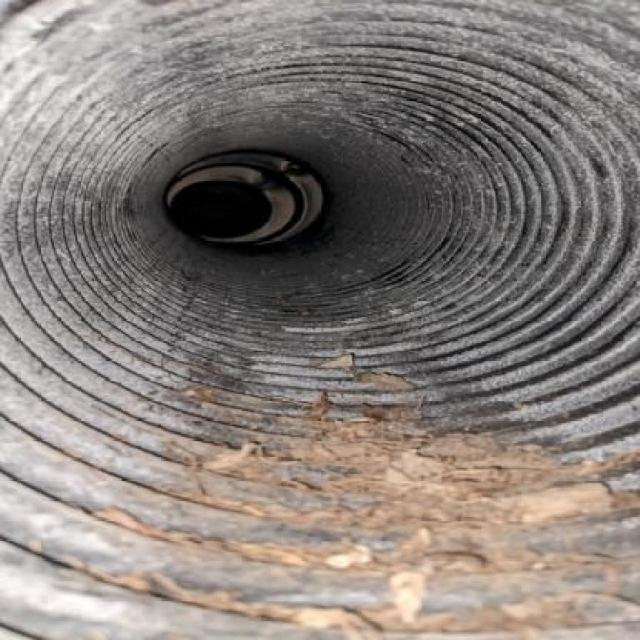dirt: (234, 363, 629, 628)
